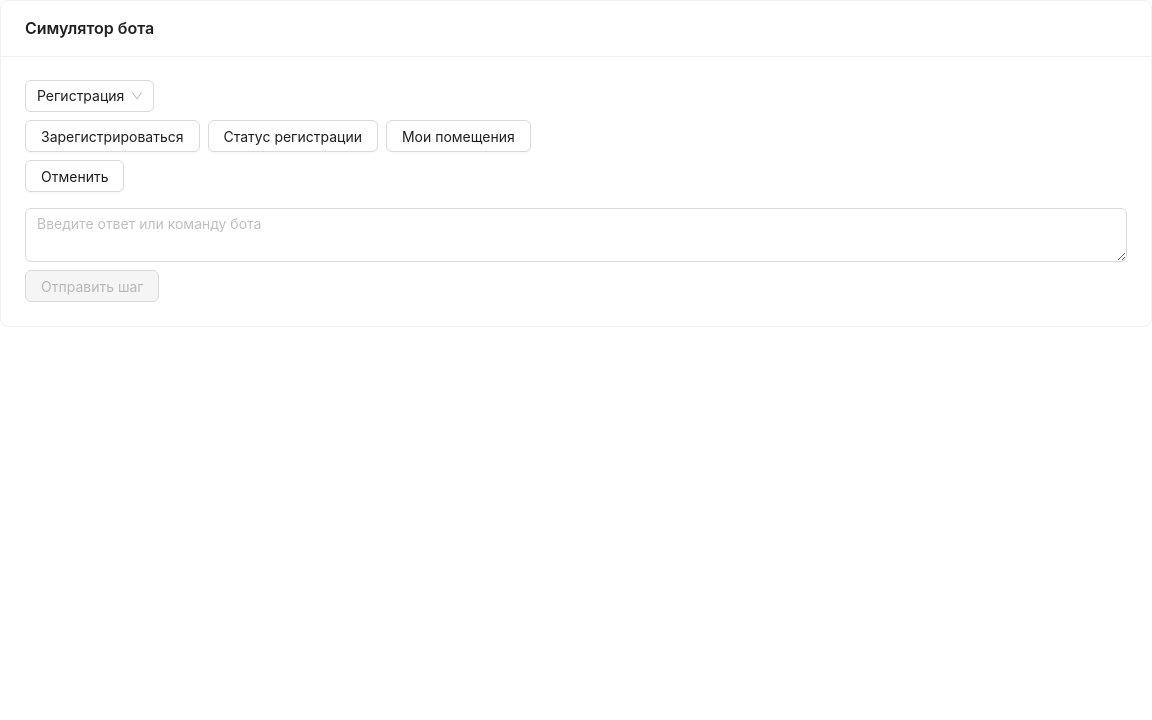
ссылка дома выбирает его в сценарии регистрации симулятора
The image size is (1152, 720).
Click the button "Зарегистрироваться" at (112, 136), box [25, 120, 200, 152]
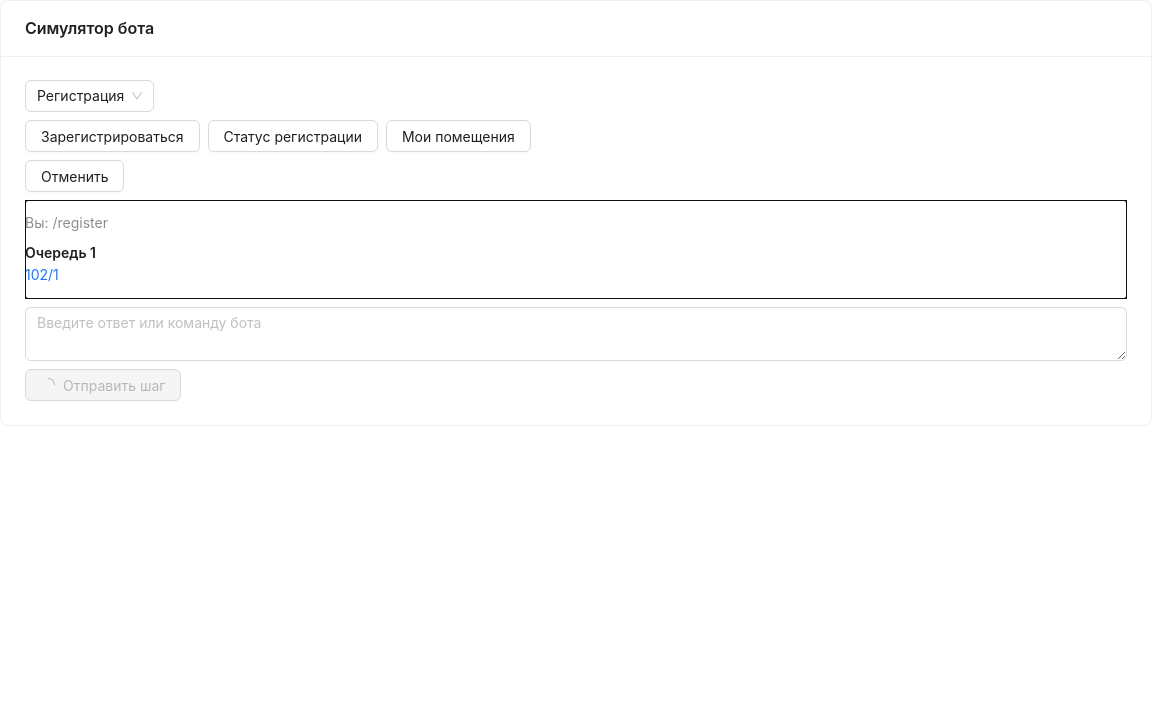
Click the link "102/1" at (42, 274), box [25, 266, 59, 283]
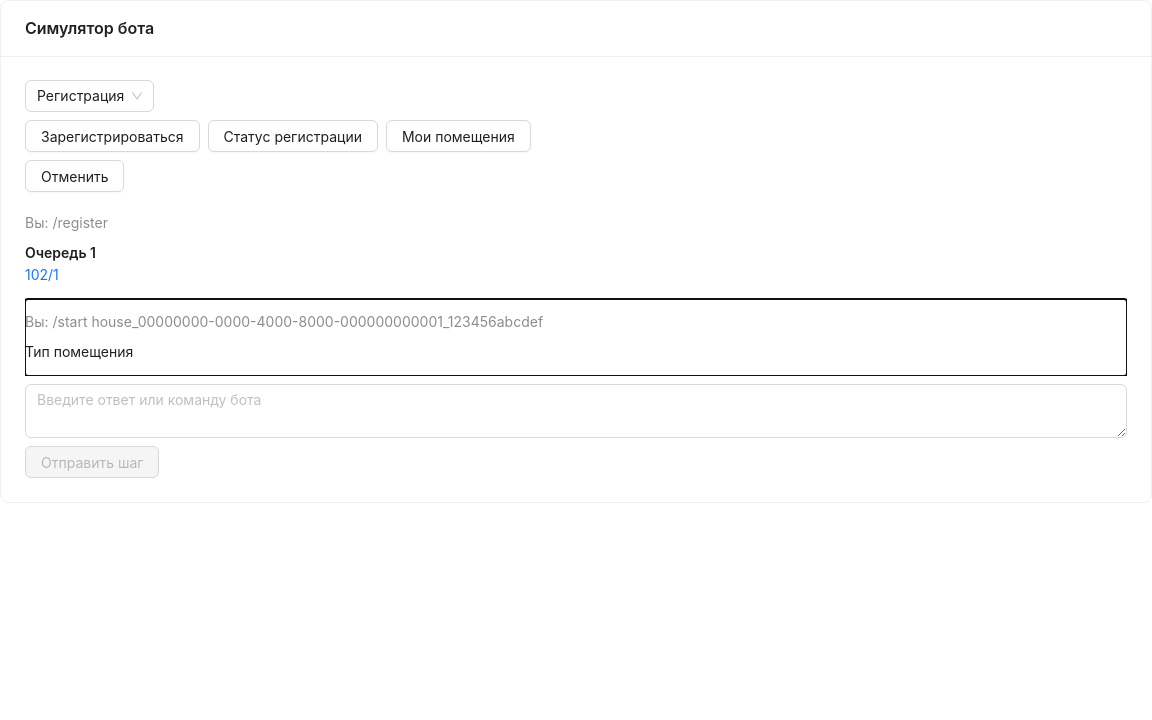
Now the text "Тип помещения" is shown, box [25, 343, 133, 360]
